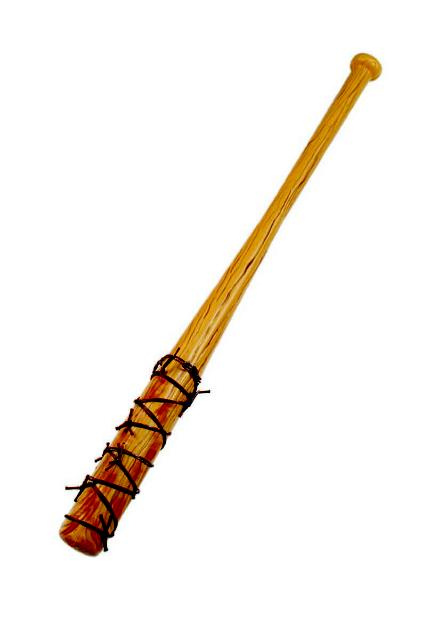baseball bat: (48, 49, 398, 562)
